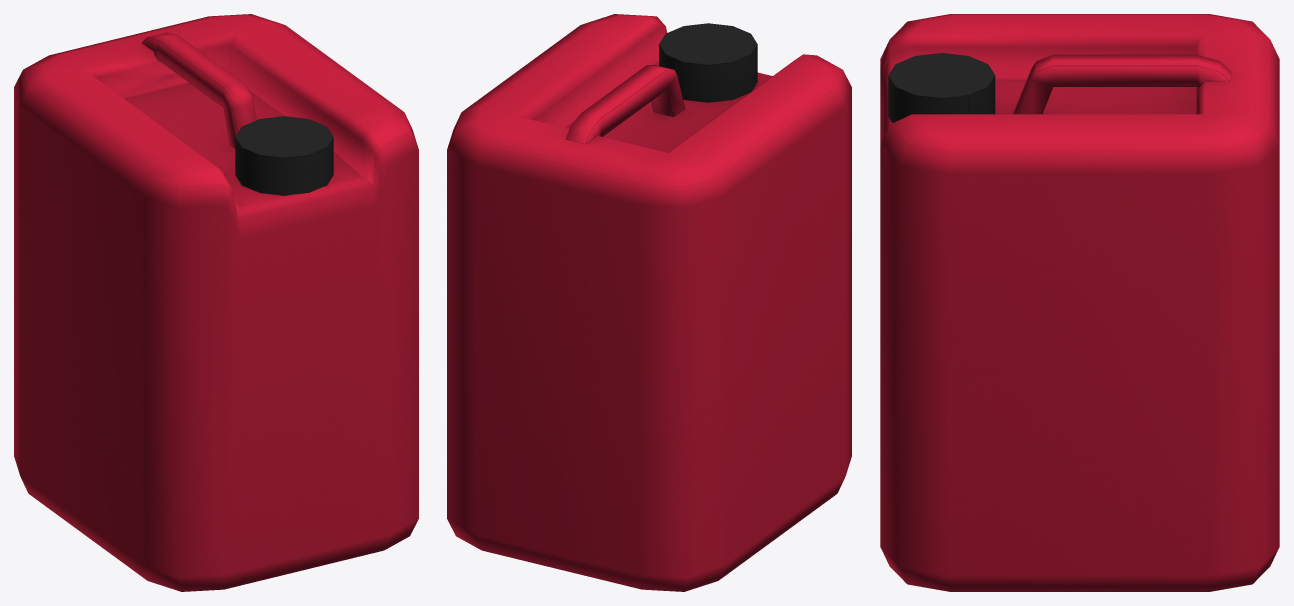
The model's file is jerrycanRed_L.fbx.
3 views of the same model, side by side, from view 1: azimuth 30°, elevation 25°; view 2: azimuth 150°, elevation 25°; view 3: azimuth 270°, elevation 25° (orthographic). The views are drawn at different scales.
Visible parts, largest first — view 1: jerrycanRed_L; view 2: jerrycanRed_L; view 3: jerrycanRed_L.
Boxes of the visible parts, x1,y1,x2,y2 form: jerrycanRed_L: [14, 14, 418, 591]; jerrycanRed_L: [447, 14, 851, 591]; jerrycanRed_L: [880, 14, 1279, 591].
Size of the model in its own units: 0.2113 by 0.3244 by 0.2474.
